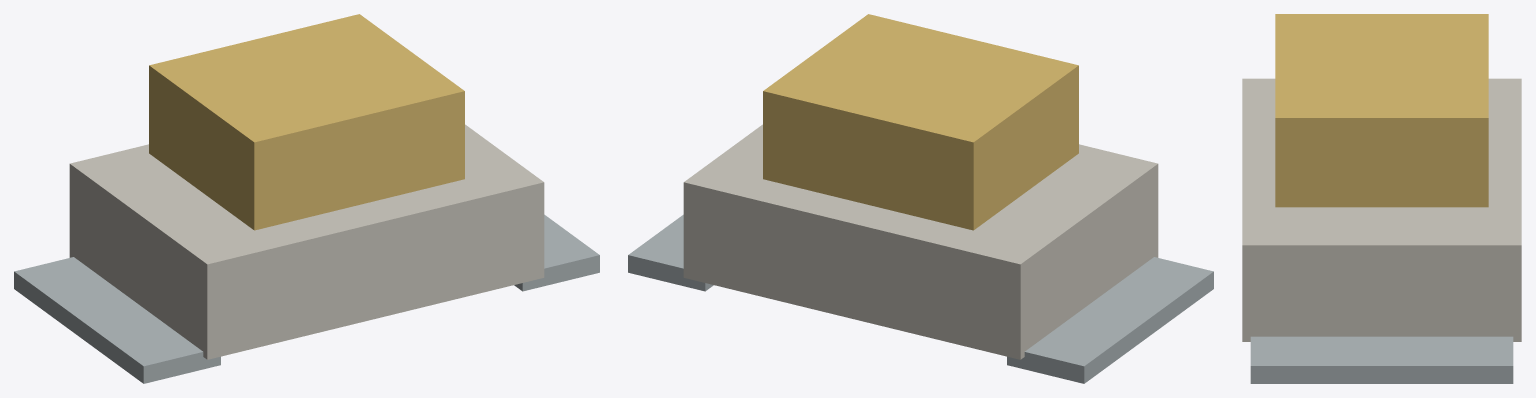
File: 49_L97_LED2_LED.glb
3 views of the same model, side by side, from view 1: azimuth 30°, elevation 25°; view 2: azimuth 150°, elevation 25°; view 3: azimuth 270°, elevation 25° (orthographic).
Visible parts, largest first — view 1: LED2_base_0, LED2_lens_1, LED2_pad_2, LED2_pad_3; view 2: LED2_base_0, LED2_lens_1, LED2_pad_2, LED2_pad_3; view 3: LED2_base_0, LED2_lens_1, LED2_pad_3.
Boxes of the visible parts, x1,y1,x2,y2 form: LED2_base_0: (69, 124, 544, 359); LED2_lens_1: (149, 14, 464, 230); LED2_pad_2: (14, 257, 220, 383); LED2_pad_3: (514, 214, 599, 291); LED2_base_0: (683, 124, 1158, 359); LED2_lens_1: (763, 14, 1078, 230); LED2_pad_2: (1007, 257, 1213, 383); LED2_pad_3: (628, 214, 713, 291); LED2_base_0: (1242, 78, 1521, 341); LED2_lens_1: (1275, 14, 1488, 207); LED2_pad_3: (1250, 336, 1513, 383).
Size of the model in its own units: 0.00325 by 0.00138 by 0.0017.
